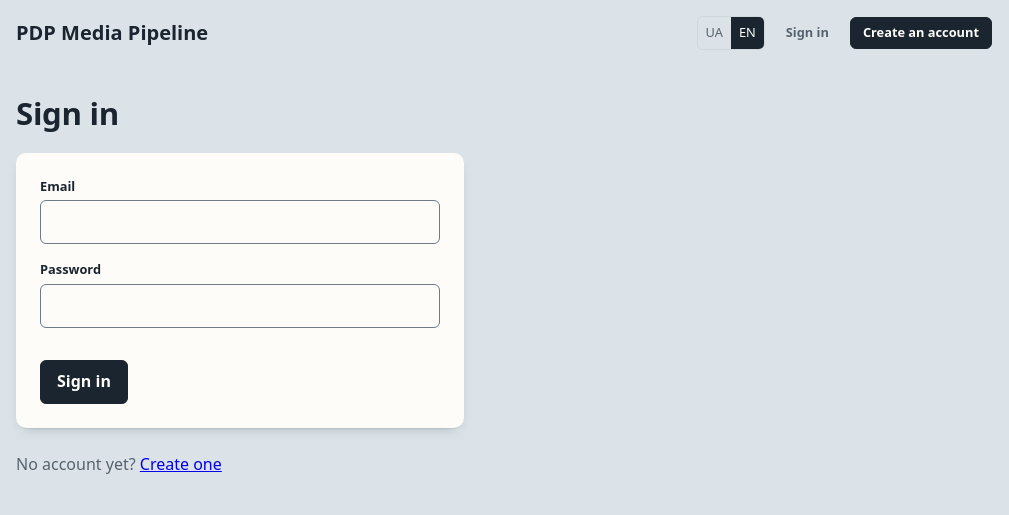
signing in › says the server could not be reached
Type "dev@example.com" into the field labelled "Email". click: point(240, 222)
box: left=40, top=200, right=440, bottom=244
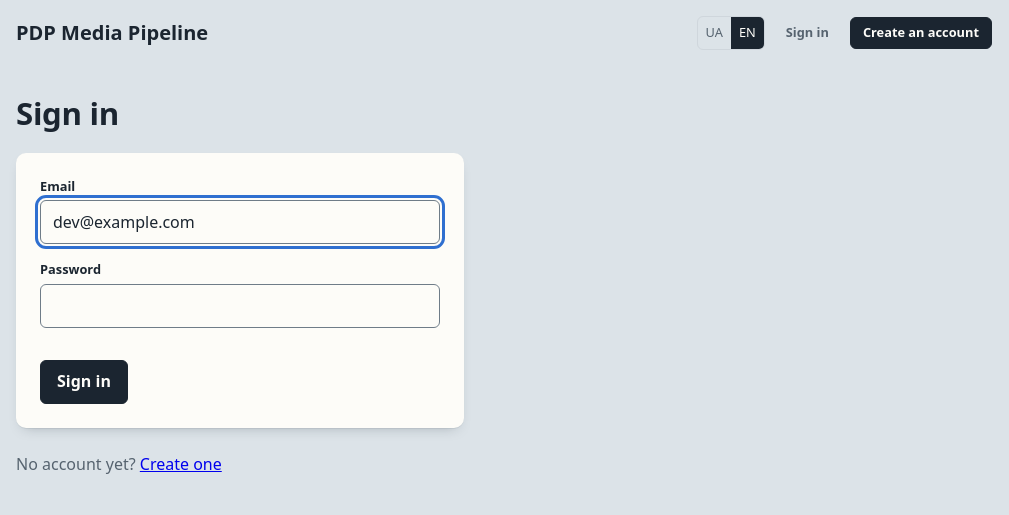
Type "correct horse battery" into the password field labelled "Password". click: point(240, 306)
box: left=40, top=284, right=440, bottom=328
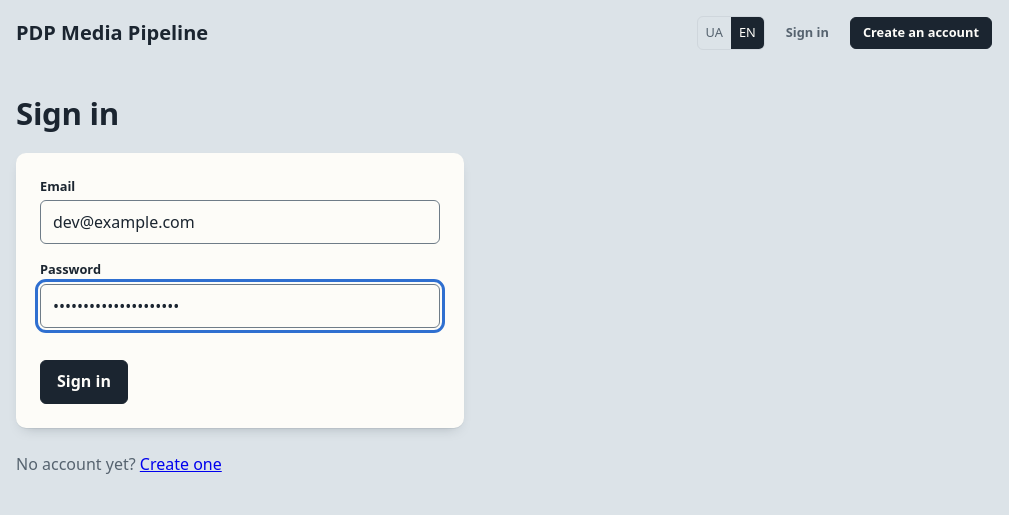
Click the button "Sign in". click: point(84, 382)
box: left=40, top=360, right=128, bottom=404
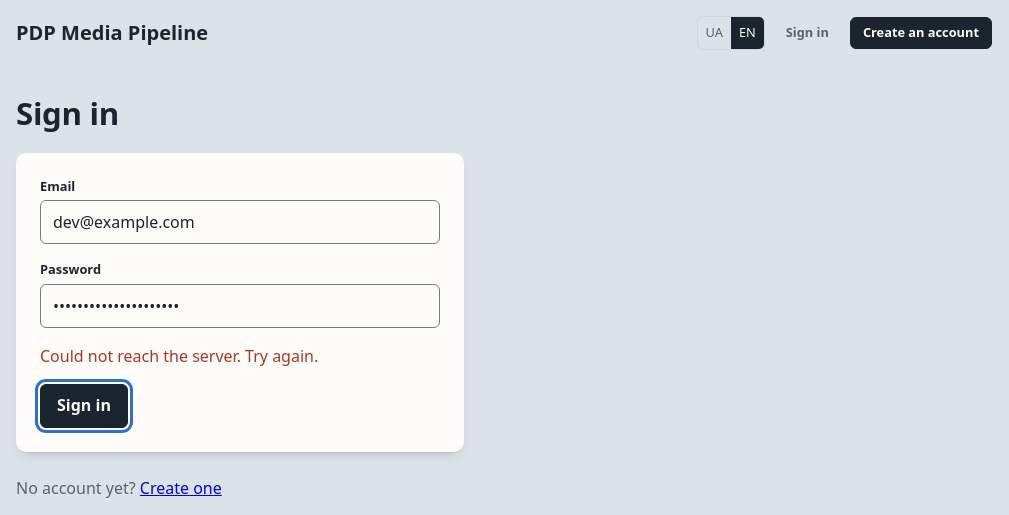
expect the message reads "Could not reach the server. Try again.": met, box left=40, top=345, right=318, bottom=367
